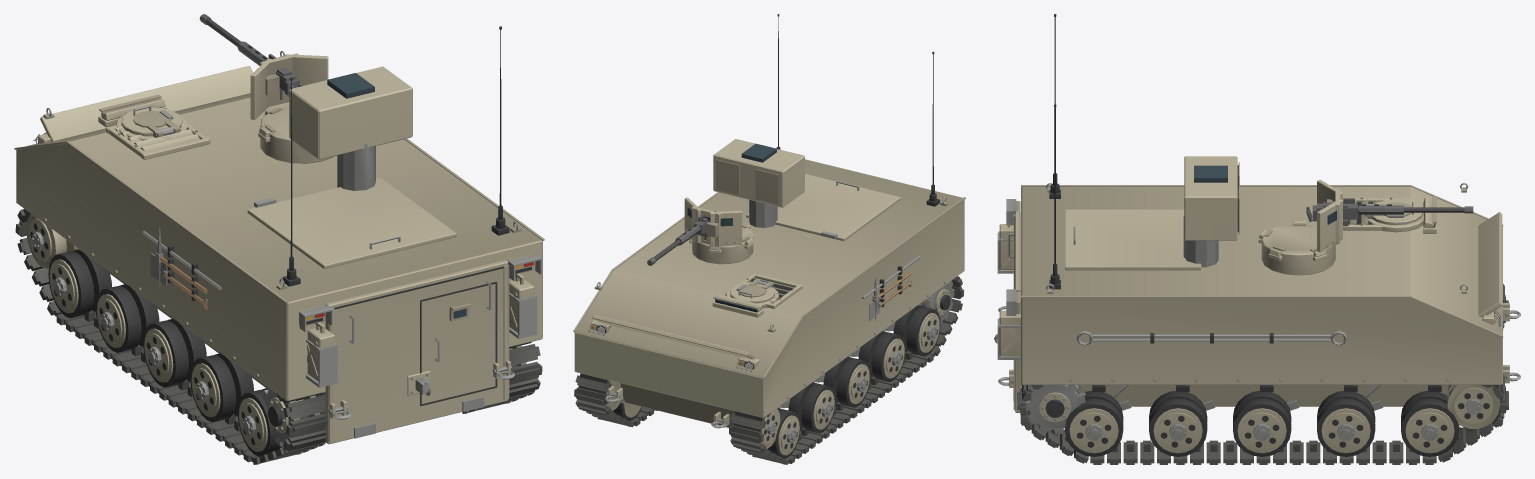
File: usa_td_itv.glb
3 renders of one model, left to right at view 1: azimuth 30°, elevation 25°; view 2: azimuth 150°, elevation 25°; view 3: azimuth 270°, elevation 25°, orthographic. The views are drawn at different scales.
Parts seen in each view (by area): view 1: body, barrel, turret; view 2: body, barrel, turret; view 3: body, barrel, turret.
Part boxes in pixels (box(x1,y1,x2,y2)): body: box(14, 26, 544, 464); barrel: box(199, 14, 412, 159); turret: box(250, 53, 375, 190); body: box(573, 14, 965, 464); barrel: box(647, 139, 804, 265); turret: box(684, 197, 777, 246); body: box(994, 14, 1520, 464); barrel: box(1184, 156, 1473, 240); turret: box(1183, 179, 1342, 267).
Bounding box in the file's own units: 2.82 × 3.97 × 5.41.
